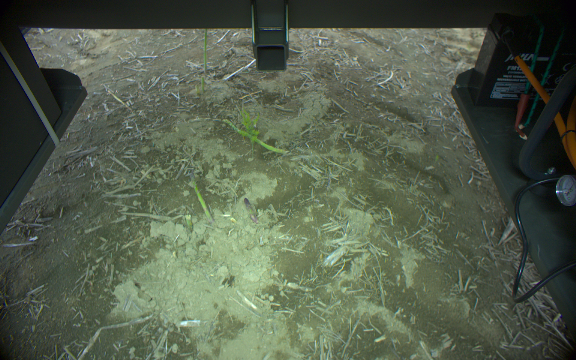aspa: (222, 117, 286, 153), (187, 171, 217, 226), (200, 28, 213, 75), (242, 196, 259, 224), (198, 75, 206, 96)
